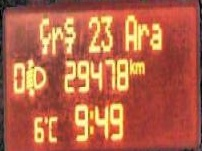0: (11, 58, 24, 95)
2: (87, 13, 100, 53), (63, 58, 75, 93)
3: (100, 13, 113, 50)
4: (95, 101, 107, 138), (89, 59, 101, 91)
6: (32, 114, 43, 144)
7: (103, 55, 114, 91)
8: (116, 57, 128, 89)
9: (73, 99, 88, 142), (109, 99, 123, 141), (76, 57, 89, 91)
X: (62, 13, 76, 53), (124, 11, 137, 49), (38, 12, 49, 55), (148, 21, 162, 49), (49, 22, 61, 54), (137, 19, 148, 48), (48, 115, 57, 142), (134, 58, 144, 75), (88, 106, 93, 135), (128, 54, 134, 75)
